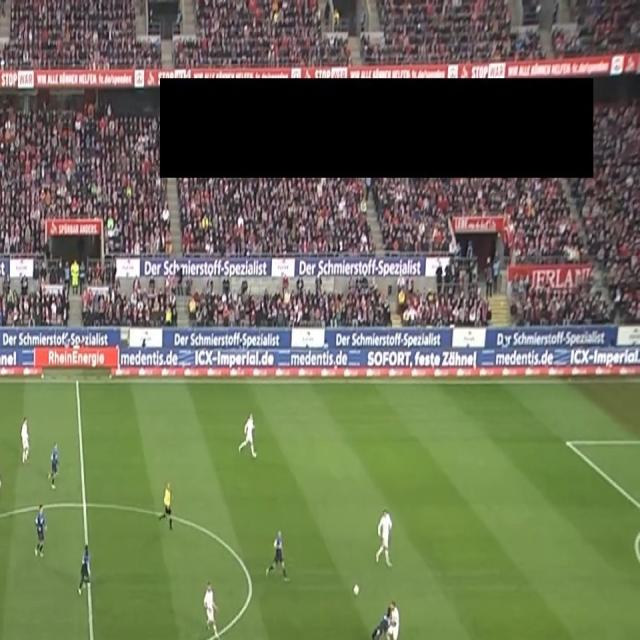ball: (352, 582, 360, 598)
